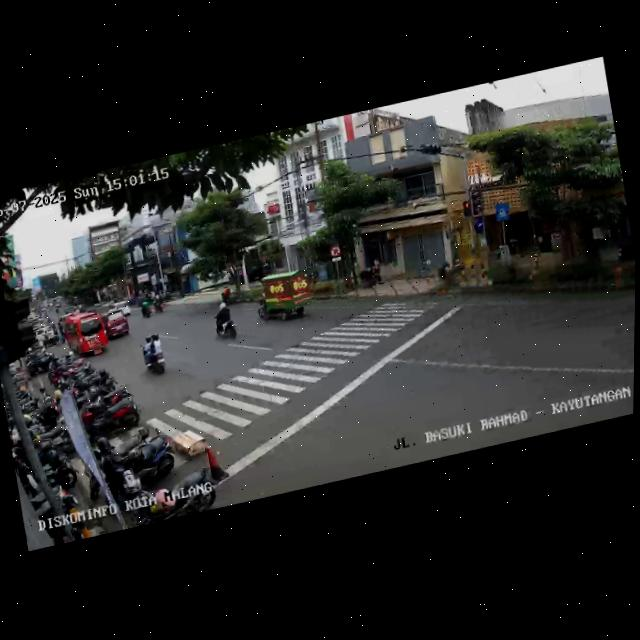car: (252, 268, 312, 326), (60, 307, 110, 363), (102, 308, 132, 342)
motorcycle: (136, 328, 172, 380), (208, 298, 239, 342), (139, 297, 152, 319)
